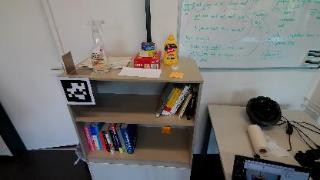book-spine: (111, 125, 123, 154), (115, 126, 127, 153), (83, 125, 94, 152), (108, 129, 120, 152), (90, 125, 100, 150), (94, 125, 103, 151), (101, 130, 111, 153), (104, 130, 113, 154), (99, 132, 107, 151)
